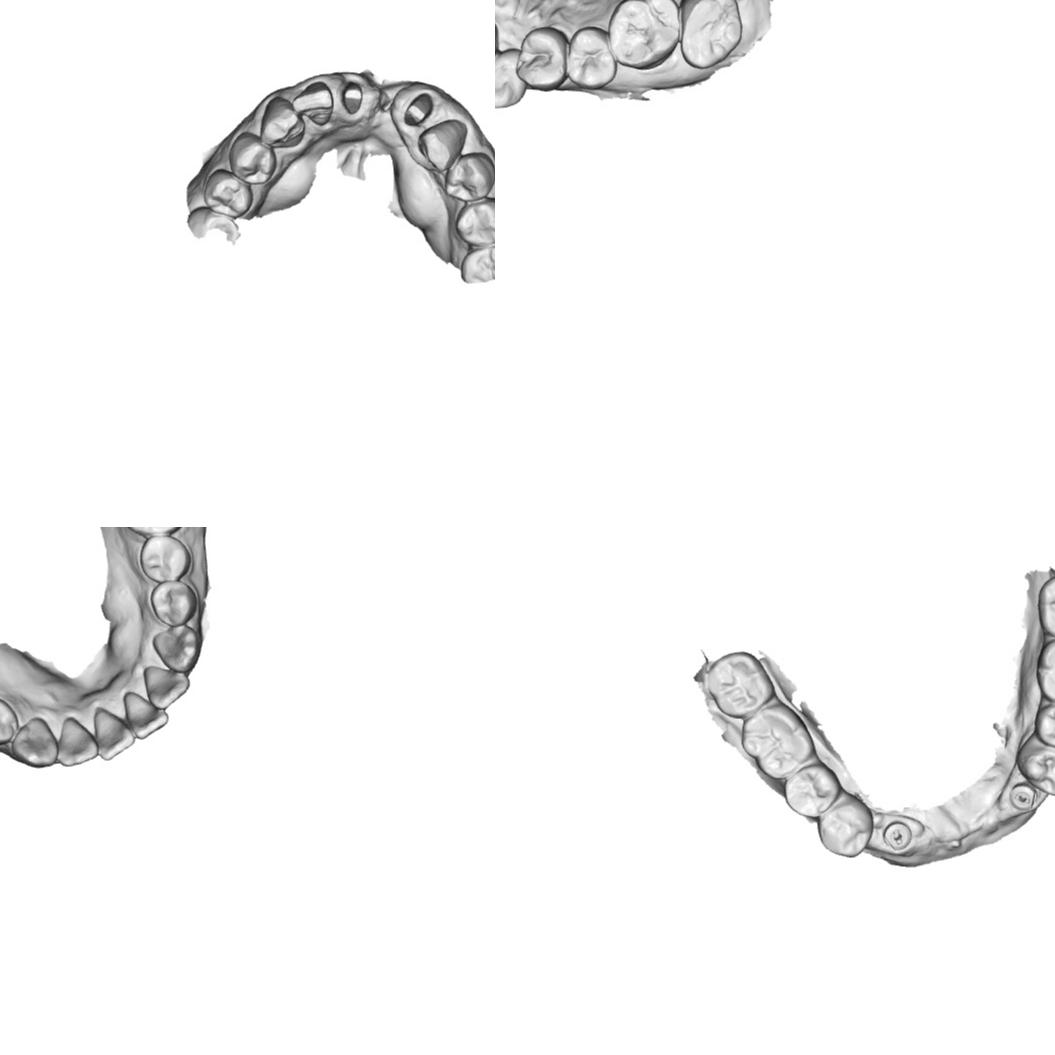canine: (416, 118, 469, 174), (257, 94, 306, 150), (10, 716, 58, 770), (151, 624, 201, 673), (495, 46, 530, 111)
crown: (400, 91, 435, 129), (339, 78, 365, 116)
implant_minus: (882, 820, 912, 851), (1008, 781, 1038, 812)
incisor: (93, 707, 136, 761), (290, 78, 336, 128), (56, 713, 98, 767), (123, 691, 169, 739), (142, 664, 190, 710)
molar: (740, 701, 816, 780), (605, 0, 684, 72), (705, 650, 775, 719), (678, 0, 746, 70), (459, 238, 495, 280), (1034, 638, 1055, 704), (1036, 573, 1055, 637)
premolar: (562, 24, 620, 92), (513, 24, 569, 94), (816, 793, 874, 858), (782, 762, 840, 819), (199, 166, 255, 221), (441, 149, 495, 204), (226, 130, 278, 186), (1014, 732, 1055, 796), (139, 534, 192, 582), (150, 578, 198, 626), (452, 195, 495, 247), (1033, 701, 1055, 752), (0, 697, 19, 746)
